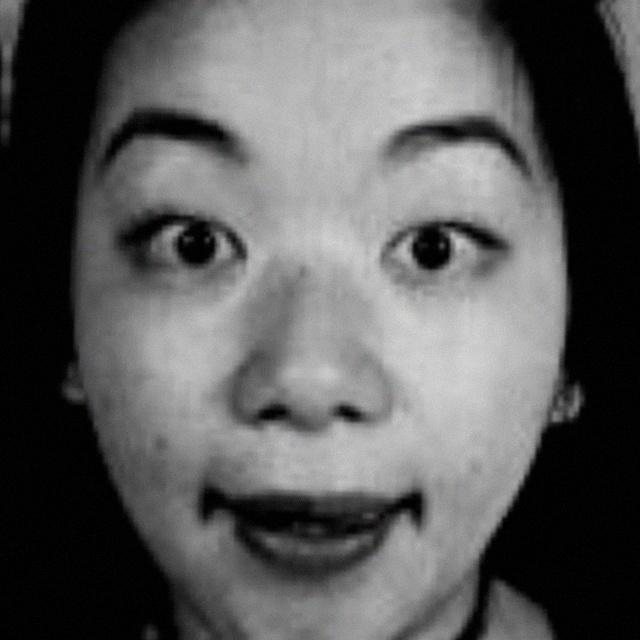surprise: (86, 19, 556, 640)
